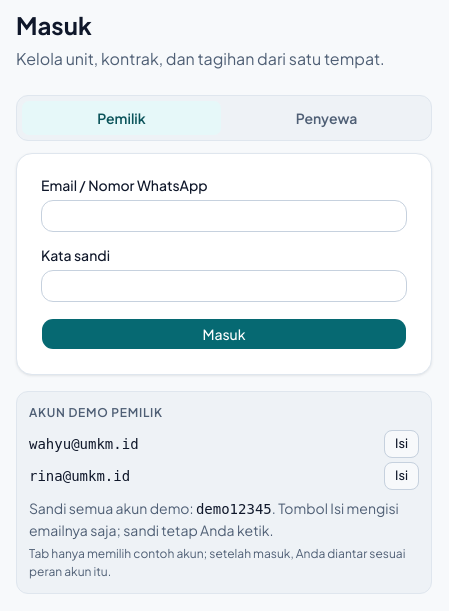
Test case: LoginPage › menampilkan akun demo sesuai tab yang aktif
Expected: the text "wahyu@umkm.id" is shown, [29, 434, 139, 454]
Expected: the text "bima@umkm.id" is not shown
Click the button "Penyewa" at (326, 118), box [226, 100, 427, 136]
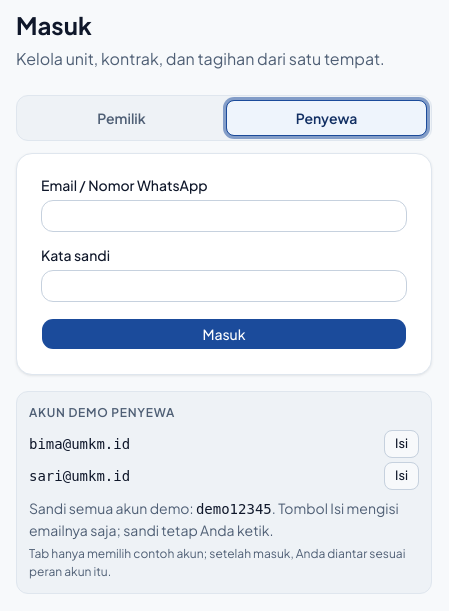
Expected: the text "demo12345" is shown, [196, 501, 272, 517]
Now the text "bima@umkm.id" is shown, box [29, 434, 130, 454]
Now the text "wahyu@umkm.id" is gone
